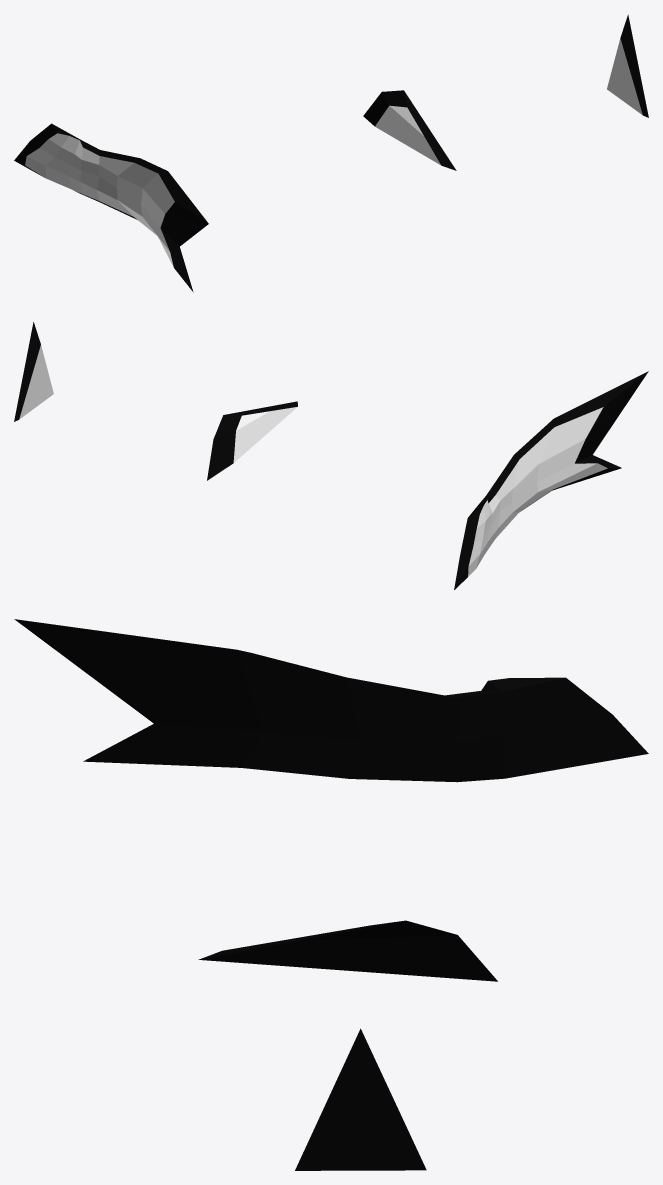
Rendered from CorruptStones.fbx.
3 renders of one model, top to bottom at view 1: azimuth 30°, elevation 25°; view 2: azimuth 150°, elevation 25°; view 3: azimuth 270°, elevation 25°, orthographic. The views are drawn at different scales.
Visible parts, largest first — view 1: CurruptStone1, CurruptStone2, CurruptStone0; view 2: CurruptStone1, CurruptStone2, CurruptStone0; view 3: CurruptStone1, CurruptStone2, CurruptStone0.
Part boxes in pixels (x1,y1,x2,y2): CurruptStone1: (14,123,208,292); CurruptStone2: (363,90,456,170); CurruptStone0: (607,14,648,117); CurruptStone1: (454,371,648,589); CurruptStone2: (207,401,297,480); CurruptStone0: (14,322,53,421); CurruptStone1: (14,619,648,782); CurruptStone2: (198,920,497,981); CurruptStone0: (295,1028,426,1170).
Bounding box in the file's own units: 12.8 × 2.08 × 8.33.
Materials: 1 (1 with a texture image).
